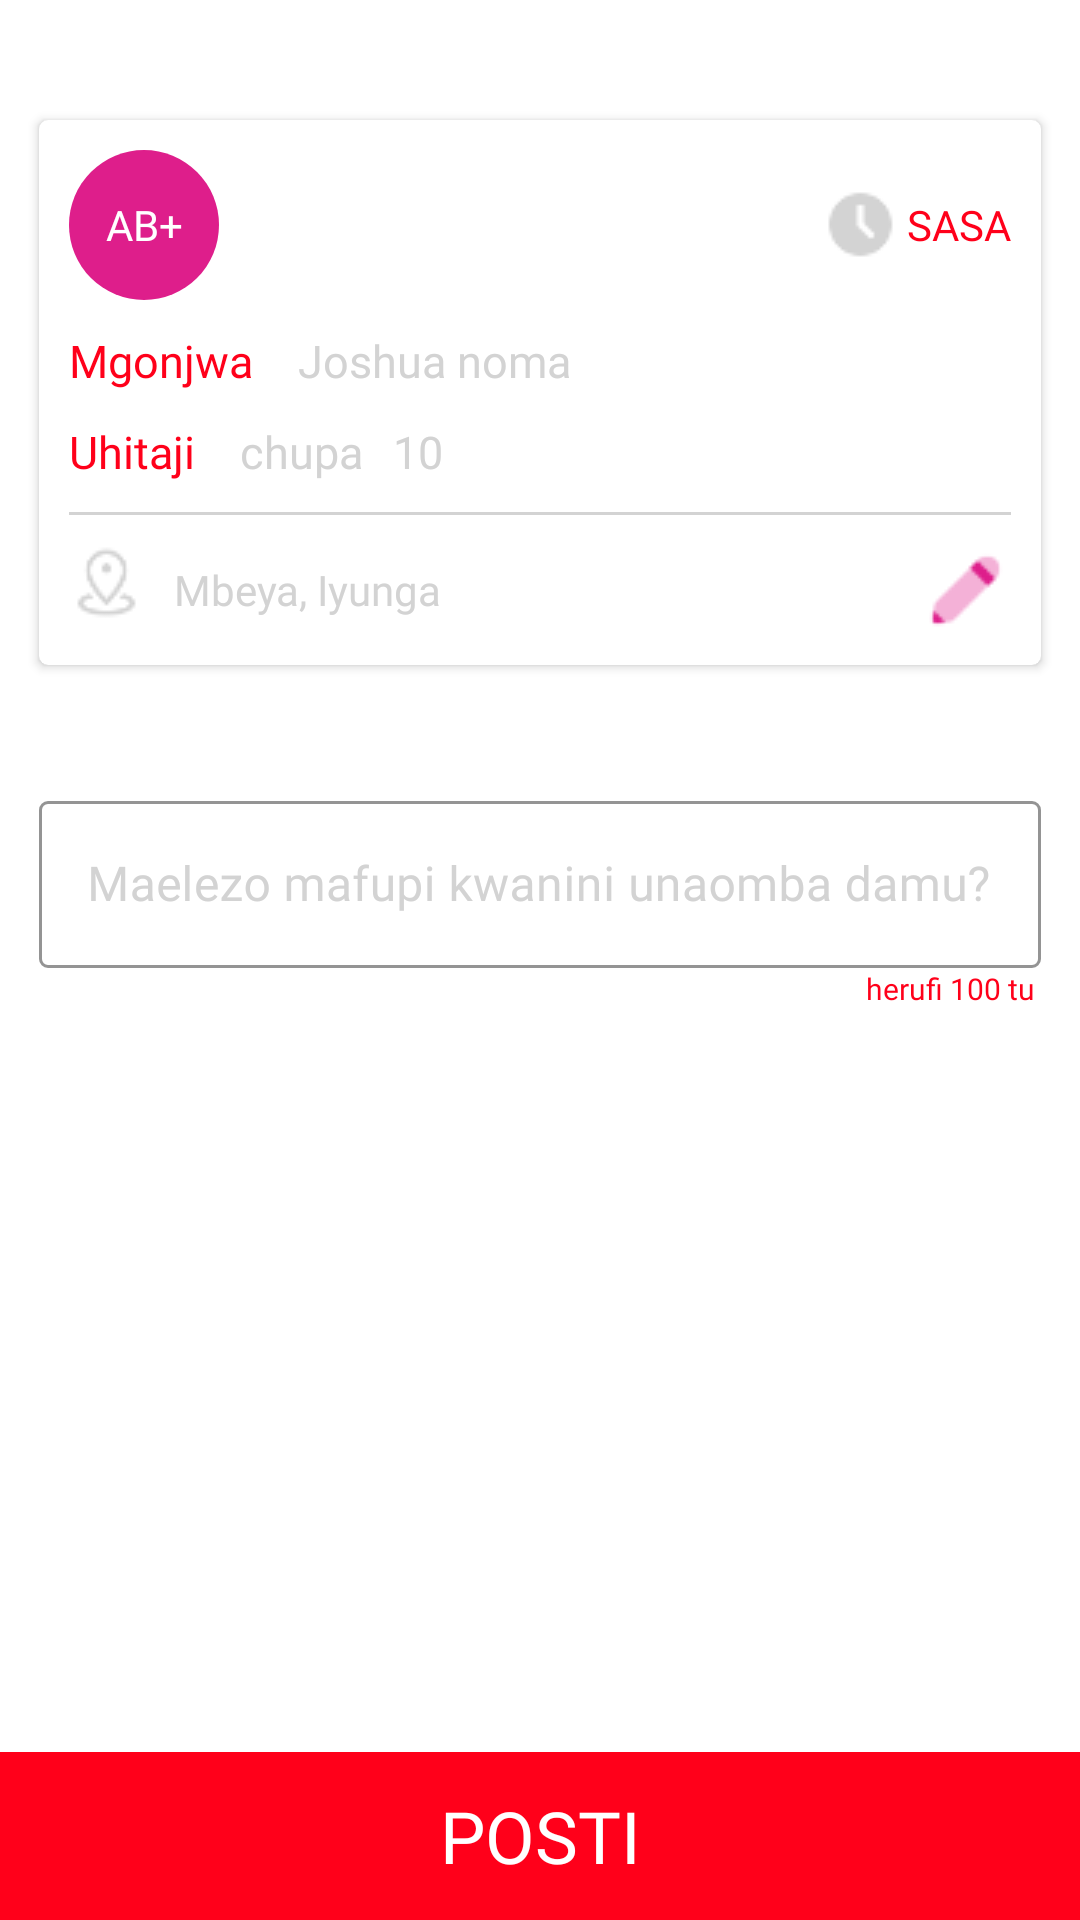

Locate icon controls on the screen. Image size 1080 × 1920, boxes as bbox(x1, y1, x2, y2).
edit: bbox(932, 556, 1000, 624)
location: bbox(78, 550, 135, 615)
time: bbox(829, 193, 892, 256)
